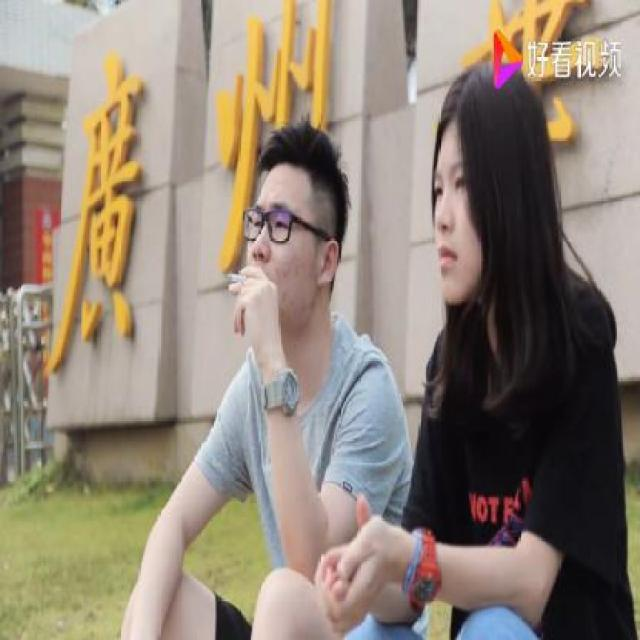smoke: (220, 263, 258, 294)
